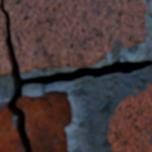brick: (108, 83, 151, 151)
broken_brick: (5, 0, 148, 72), (17, 90, 71, 151), (0, 101, 25, 151), (0, 10, 11, 75)
crack: (0, 0, 151, 151)
